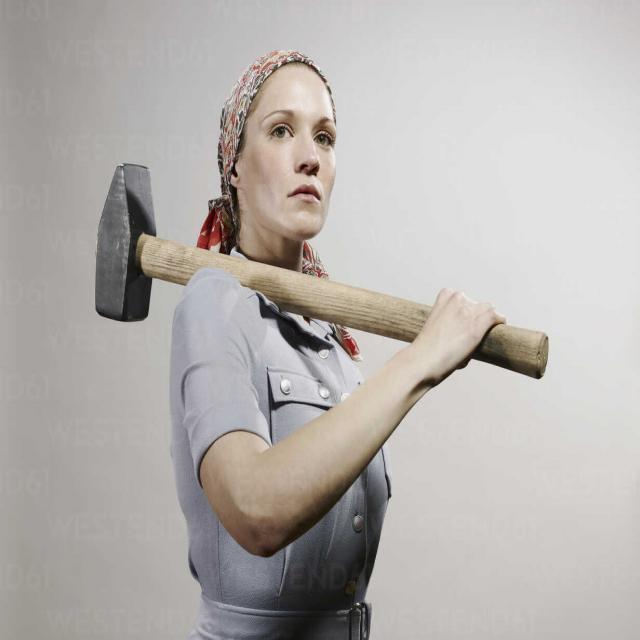hammer: (91, 157, 555, 386)
